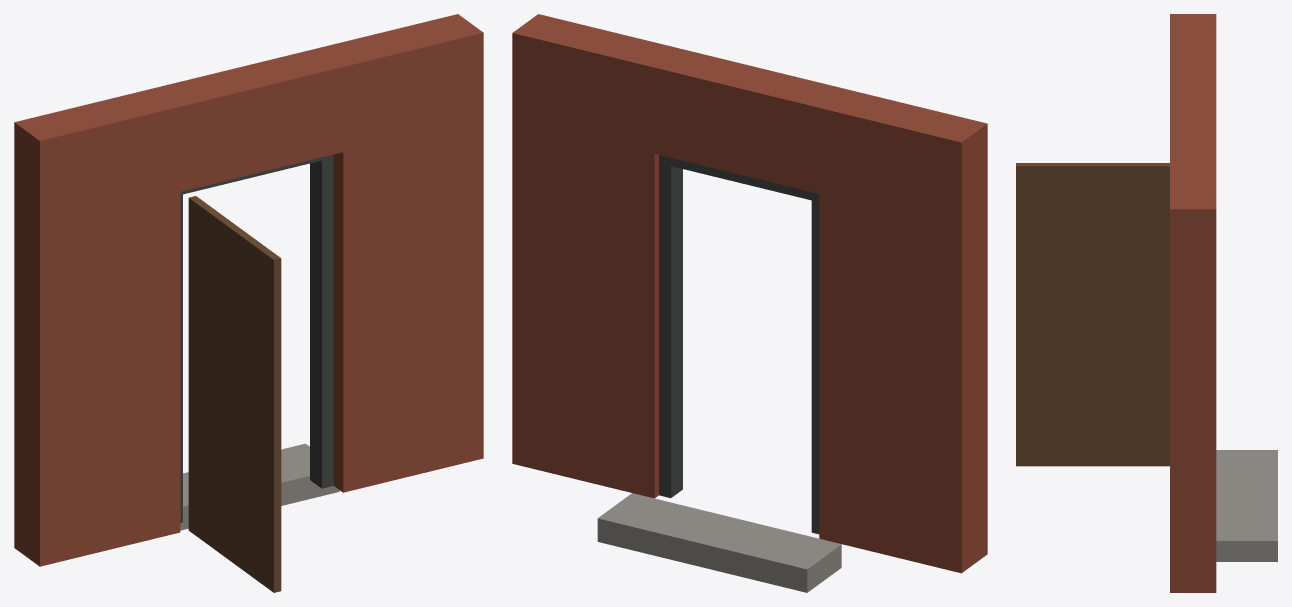
The model's file is Kit_brick_door.fbx.
3 renders of one model, left to right at view 1: azimuth 30°, elevation 25°; view 2: azimuth 150°, elevation 25°; view 3: azimuth 270°, elevation 25°, orthographic. The views are drawn at different scales.
Visible parts, largest first — view 1: WallJambL, WallJambR, DoorLeaf, WallAbove, FrameR, Step, FrameL; view 2: WallJambL, WallJambR, WallAbove, Step, FrameR, FrameL, FrameTop; view 3: DoorLeaf, WallJambR, Step, WallAbove, WallJambL.
Boxes of the visible parts, x1,y1,x2,y2 form: WallJambL: (14,88,180,566); WallJambR: (318,14,483,492); DoorLeaf: (188,196,281,592); WallAbove: (155,48,343,191); FrameR: (310,154,333,488); Step: (180,443,339,530); FrameL: (180,191,182,523); WallJambL: (819,89,987,573); WallJambR: (512,14,679,498); WallAbove: (654,48,844,193); Step: (597,493,841,592); FrameR: (659,155,682,498); FrameL: (811,192,819,534); FrameTop: (662,157,816,200); DoorLeaf: (1016,163,1169,466); WallJambR: (1170,147,1216,592); Step: (1216,450,1277,561); WallAbove: (1170,75,1216,147); WallJambL: (1170,14,1216,75).
Bounding box in the file's own units: 300 × 170 × 290.
